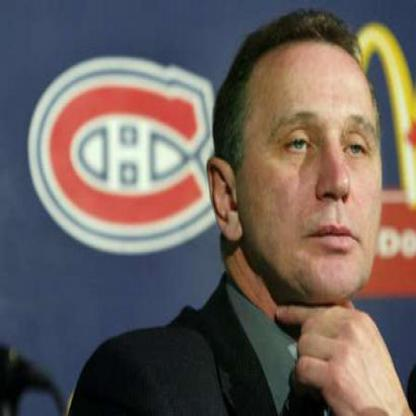face: (237, 28, 390, 320)
